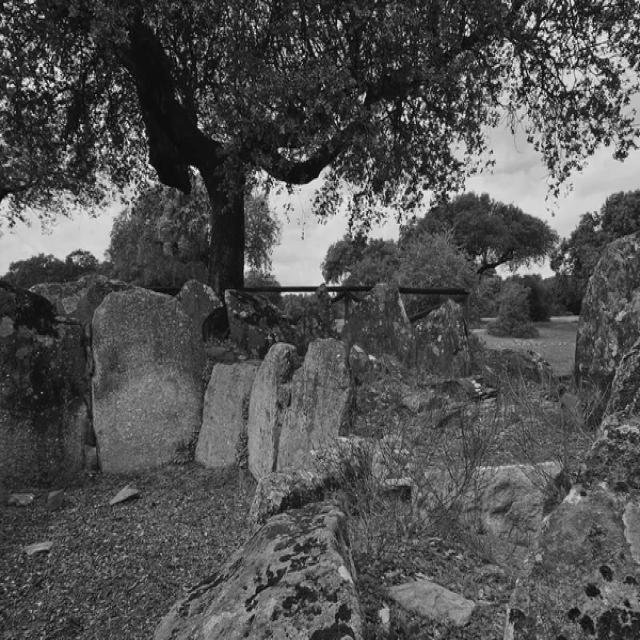Stone: (506, 340, 640, 639), (154, 501, 365, 640), (92, 289, 204, 474), (0, 282, 86, 489), (249, 338, 354, 480), (422, 463, 564, 547), (250, 438, 364, 535), (577, 232, 640, 394), (248, 344, 300, 481), (195, 366, 257, 469), (342, 285, 413, 361), (29, 274, 131, 326), (414, 300, 471, 378), (226, 291, 292, 357), (177, 280, 229, 340), (299, 284, 336, 354)
Tree: (0, 1, 640, 290)
